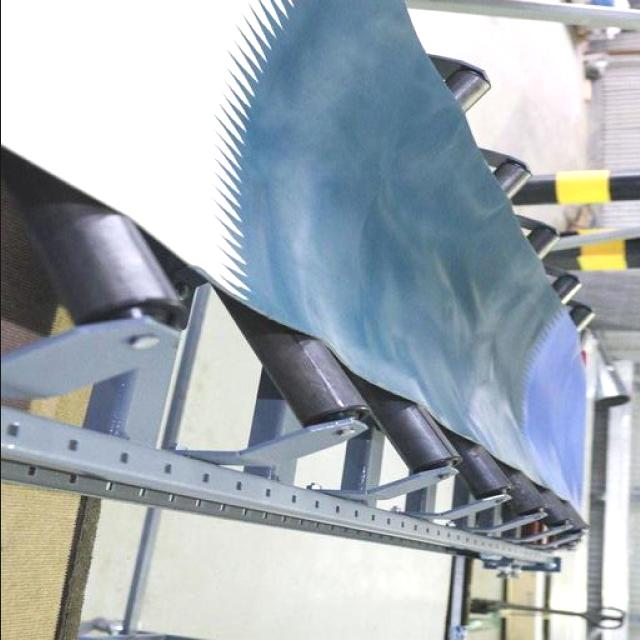conveyor: (0, 0, 590, 506)
